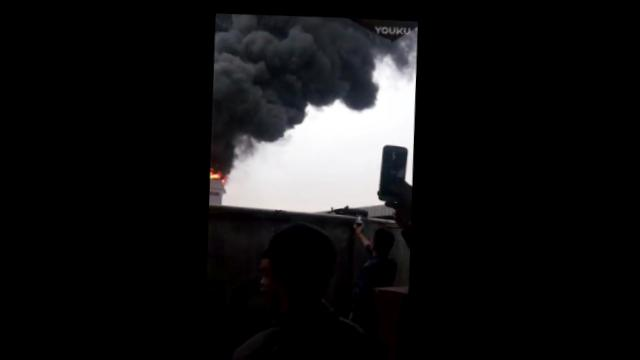fire: (210, 168, 222, 177)
